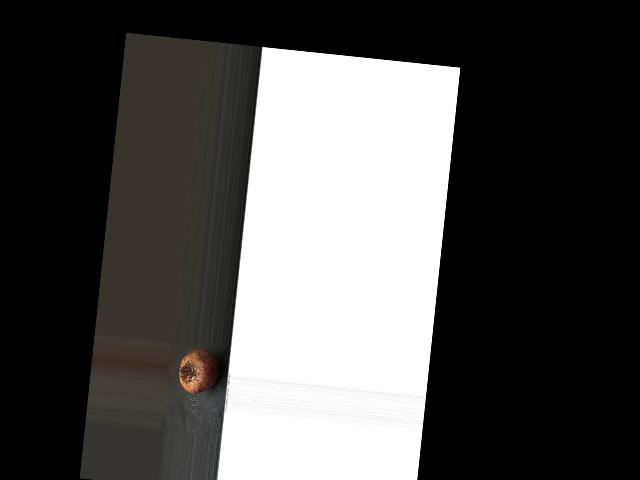beet: (177, 345, 221, 395)
